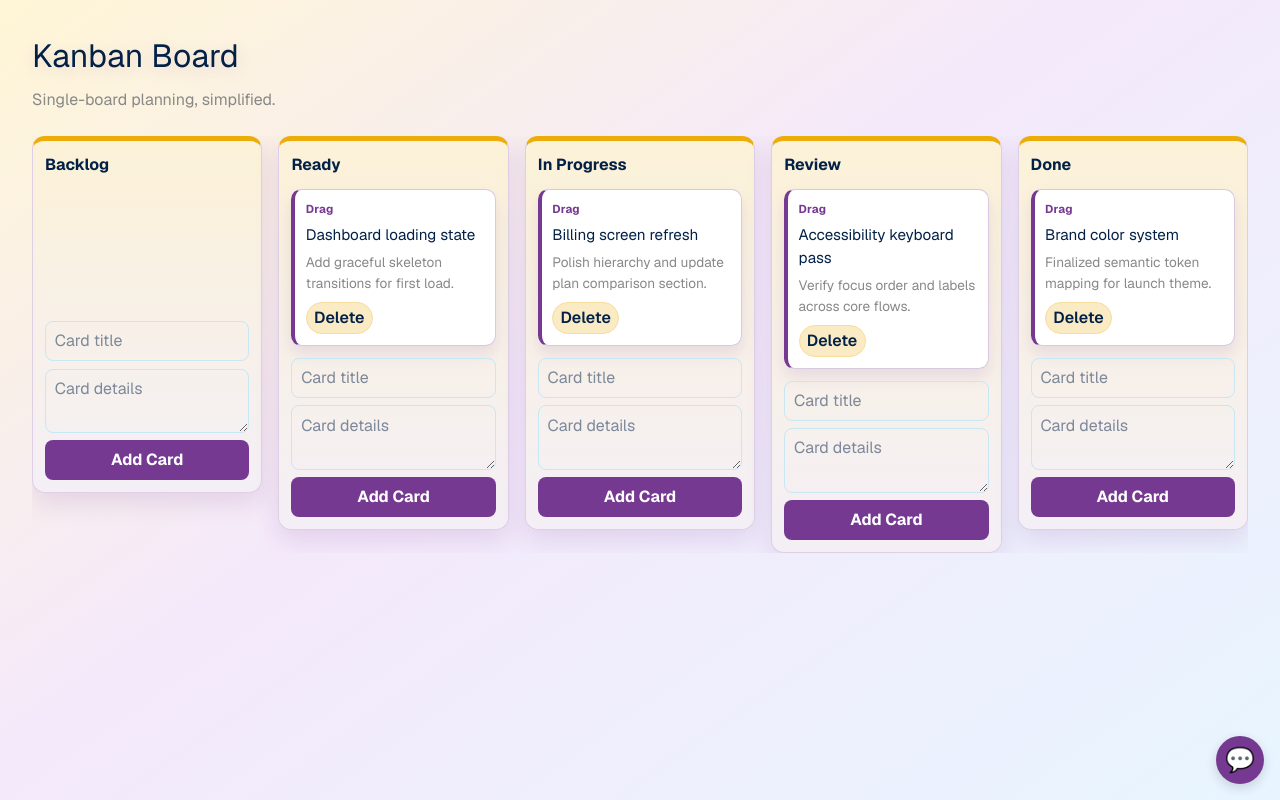
Test case: KanbanBoard › adds and deletes a card
The image size is (1280, 800).
Type "Regression test card" into the 1st field labelled "Card title". click: (147, 341)
box: [45, 321, 249, 361]
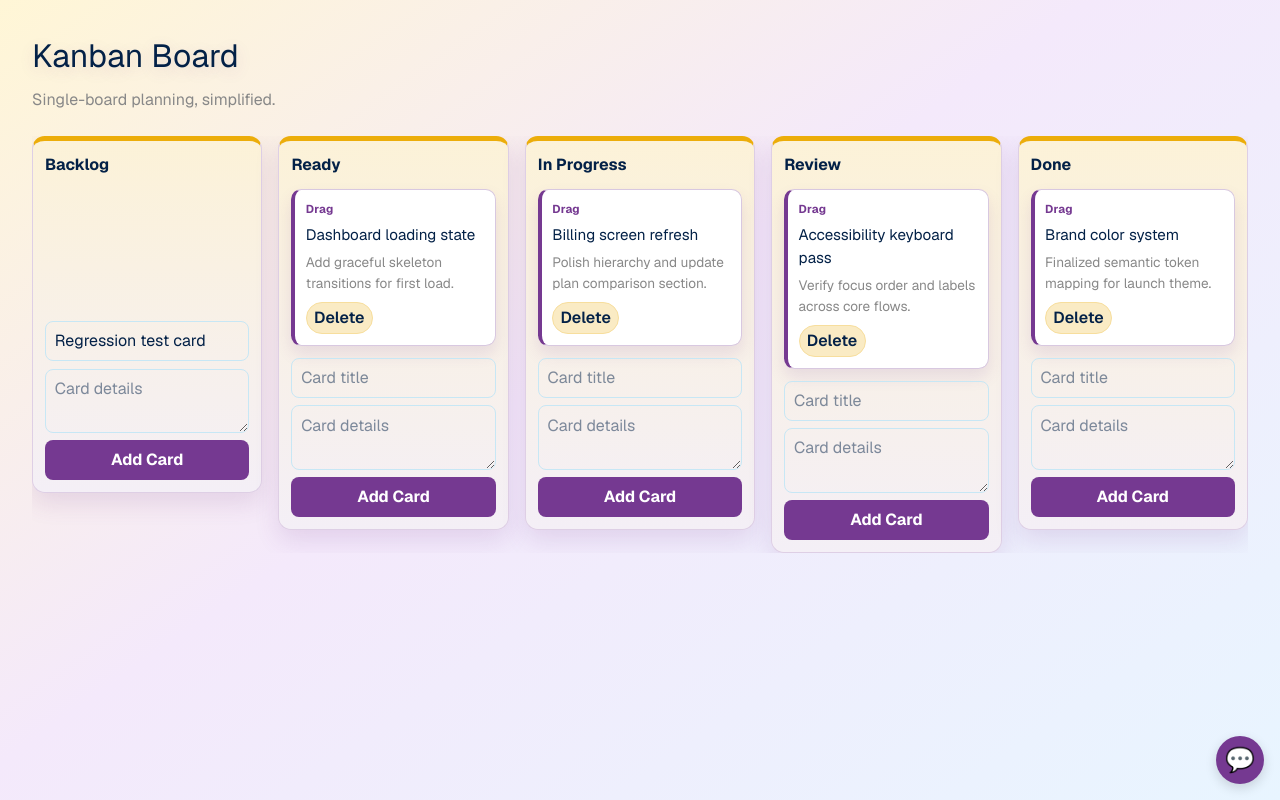
Type "Details go here" into the 1st text box labelled "Card details". click: (147, 401)
box: [45, 369, 249, 433]
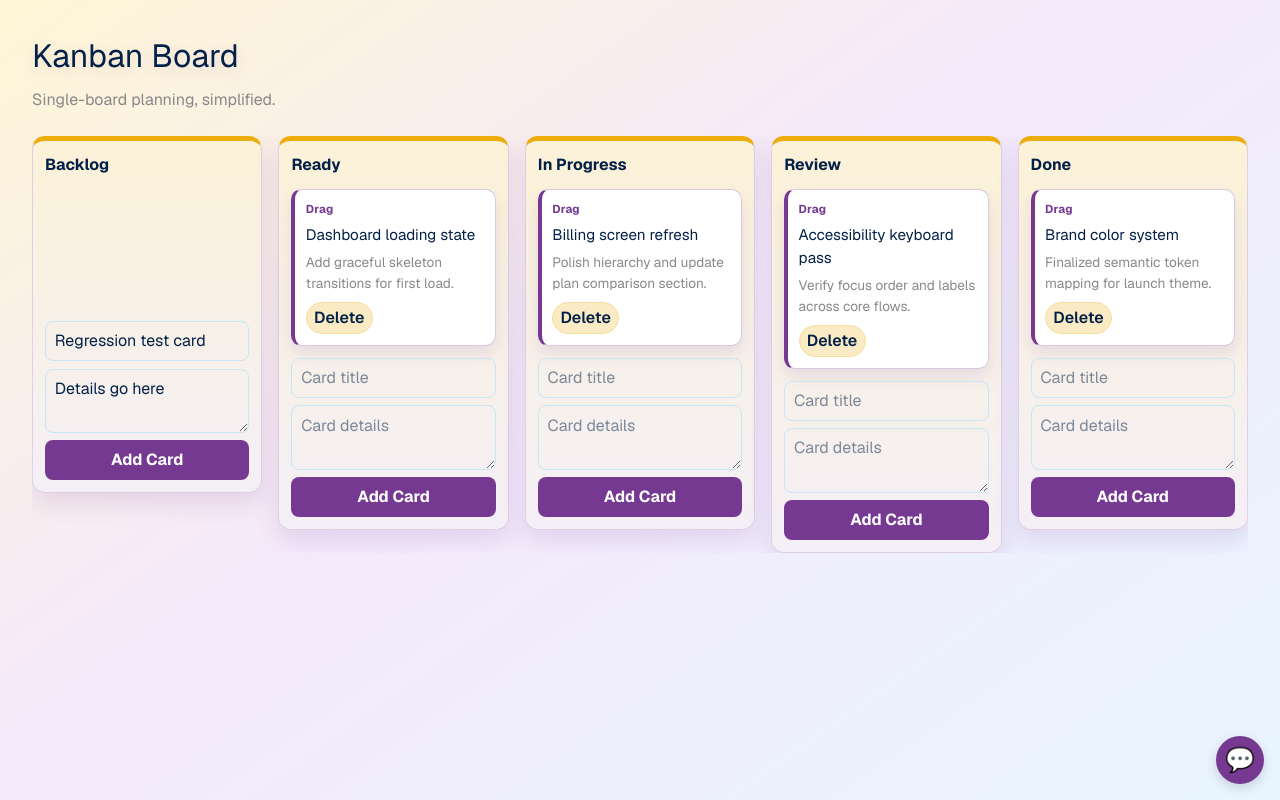
Click the 1st button "Add Card". click: (147, 460)
box: [45, 440, 249, 480]
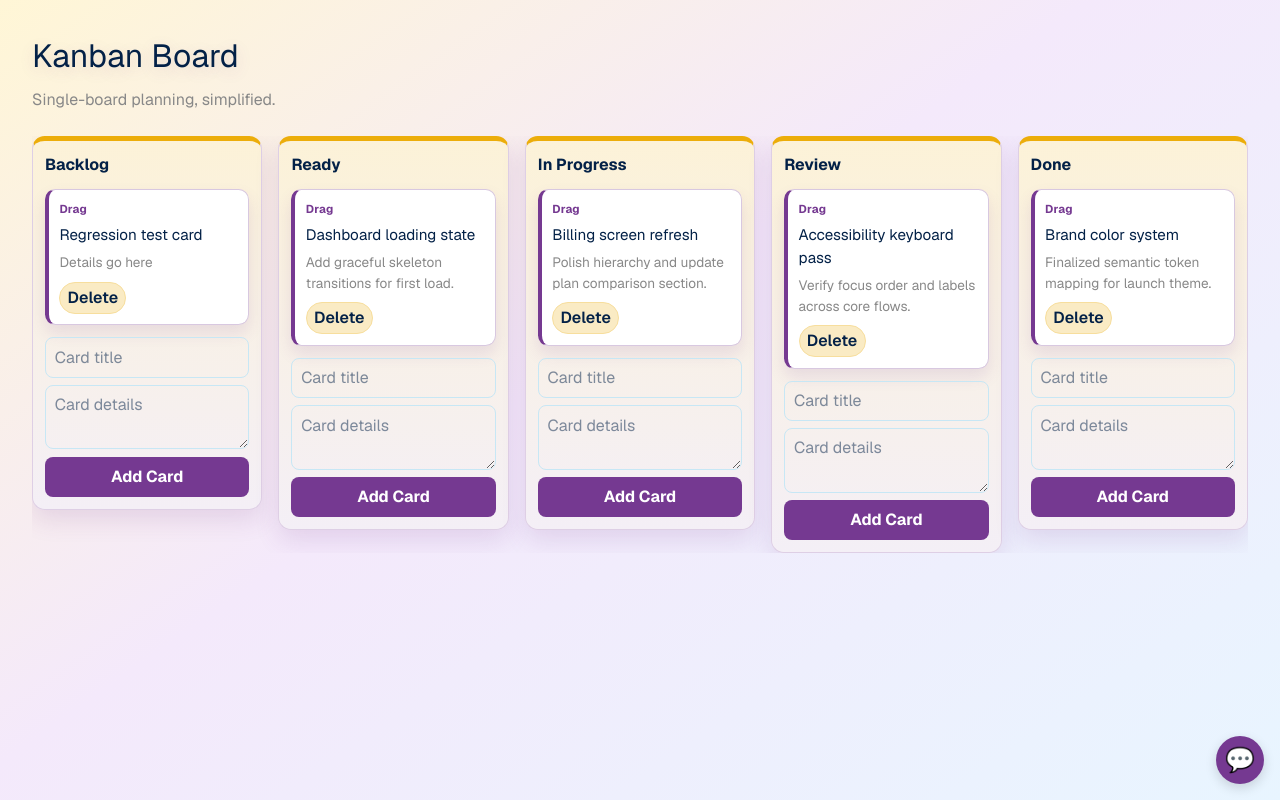
Expected: the heading "Regression test card" is shown, [59, 225, 203, 244]
Click the button "Delete" below "Details go here". click: (93, 298)
box: [59, 282, 126, 314]
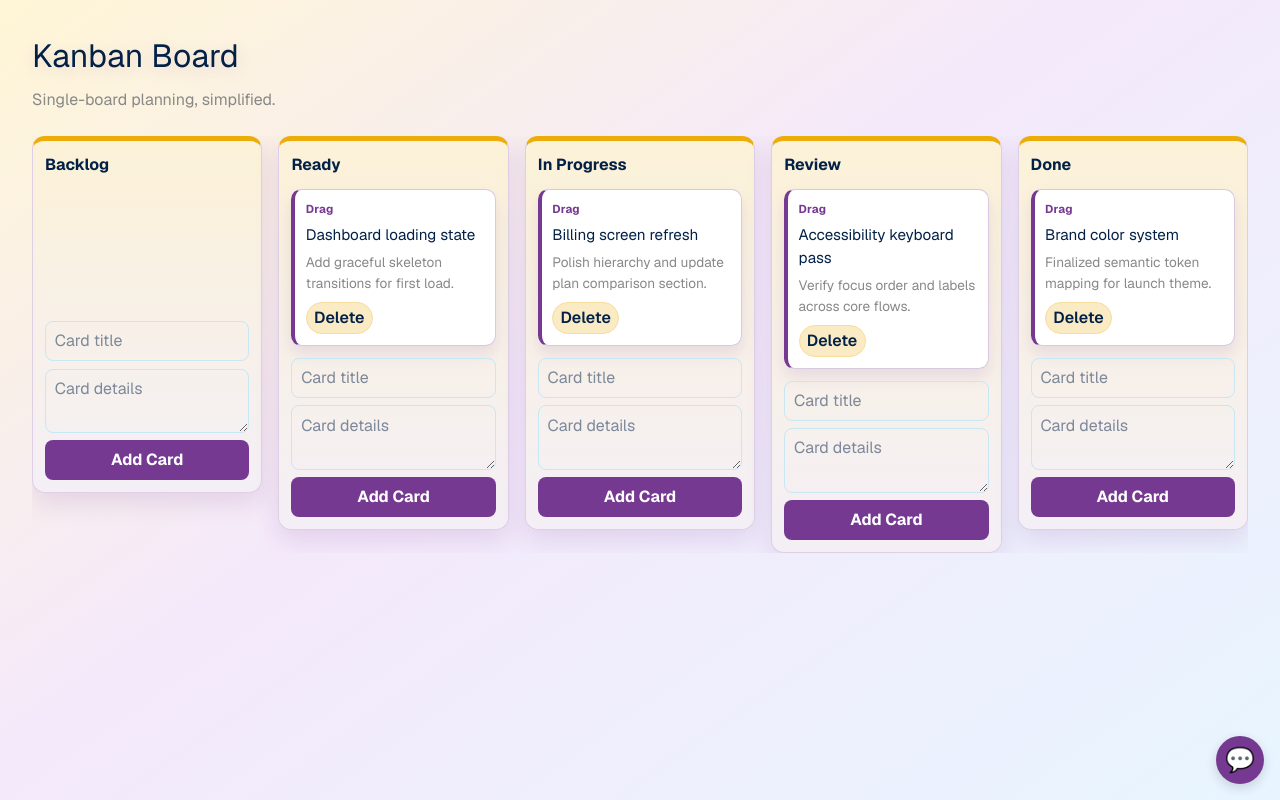
Expected: the heading "Regression test card" is gone
